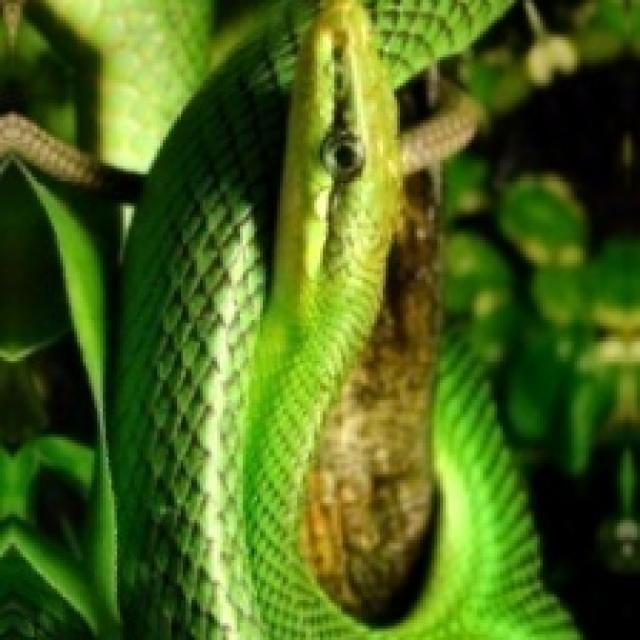red-tailed green ratsnake: (0, 0, 574, 637)
